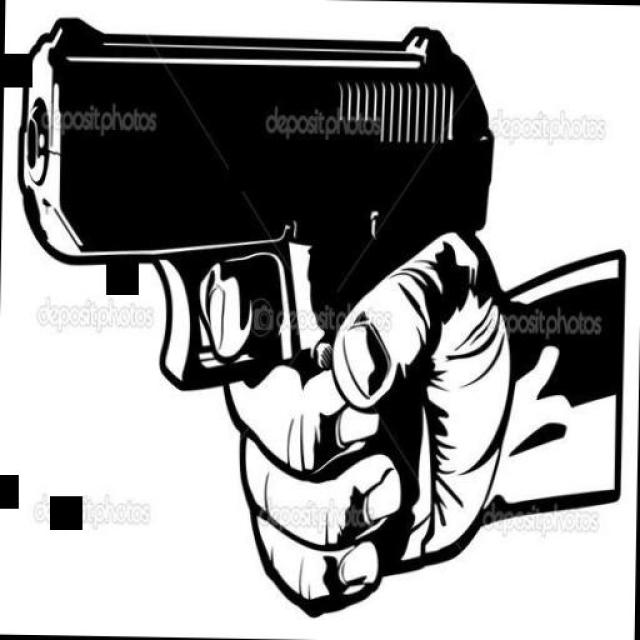gun: (12, 8, 496, 578)
